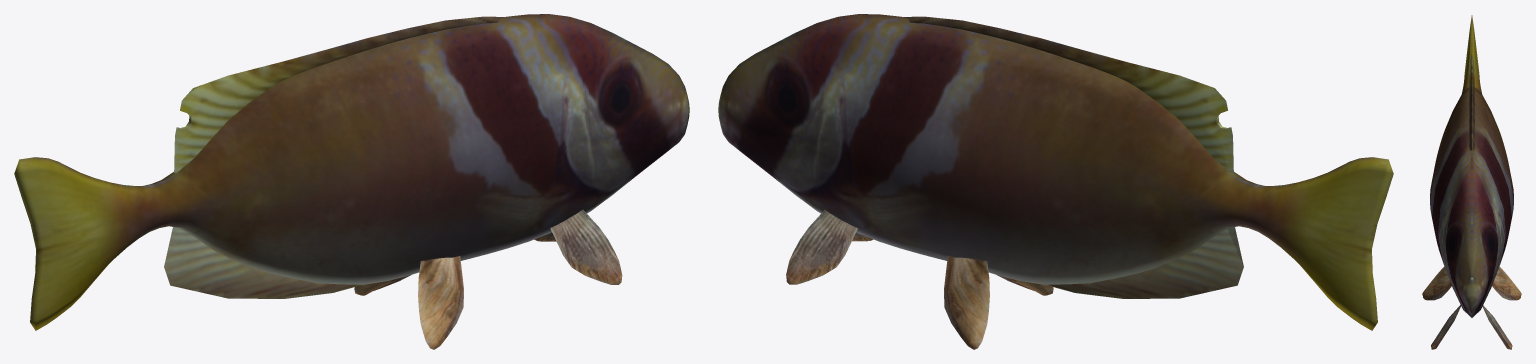
File: Fish 9.fbx
The picture shows the model from 3 angles, left to right: view 1: azimuth 30°, elevation 25°; view 2: azimuth 150°, elevation 25°; view 3: azimuth 270°, elevation 25°; orthographic projection. The views are drawn at different scales.
Parts seen in each view (by area): view 1: Fish_9; view 2: Fish_9; view 3: Fish_9.
Part boxes in pixels (x1,y1,x2,y2): Fish_9: (14,14,689,349); Fish_9: (718,14,1393,349); Fish_9: (1422,15,1521,349).
Size of the model in its own units: 8.99 by 3.71 by 1.77.
Materials: 1 (1 with a texture image).
